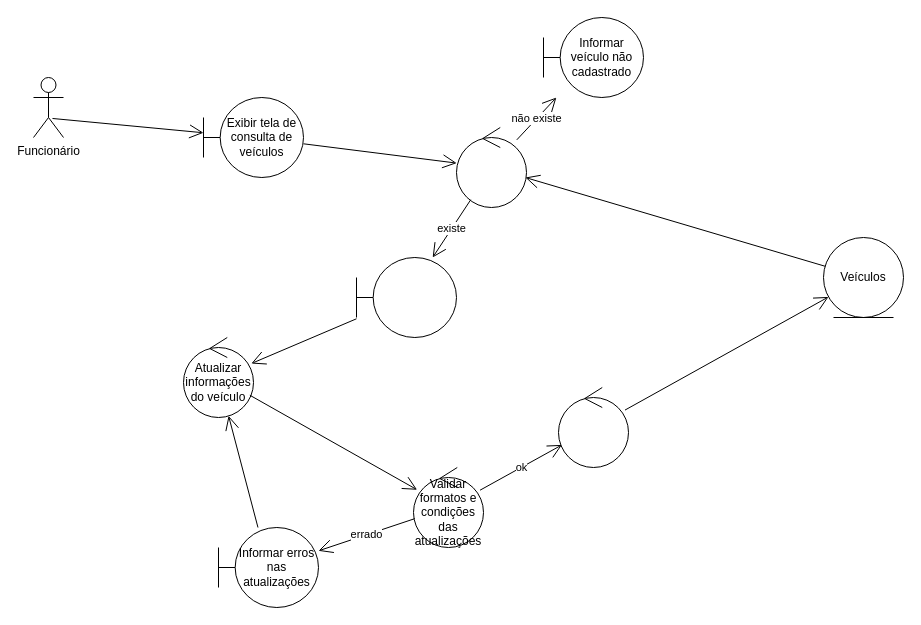
Some shapes in this 921 by 625 pixel diagram are drawn without their labels. The shapes that lost their labels are listed below. From the top down, each one's box as (x1, y1, x2, y2) in pixels, then its label:
(456, 126, 526, 208): Buscar veículo
(356, 256, 456, 338): Exibir detalhes do veículo
(558, 386, 628, 468): Salvar dados
